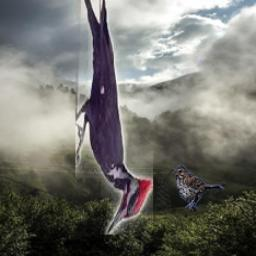Sparrow: (174, 163, 224, 211)
Woodpecker: (74, 0, 152, 235)
